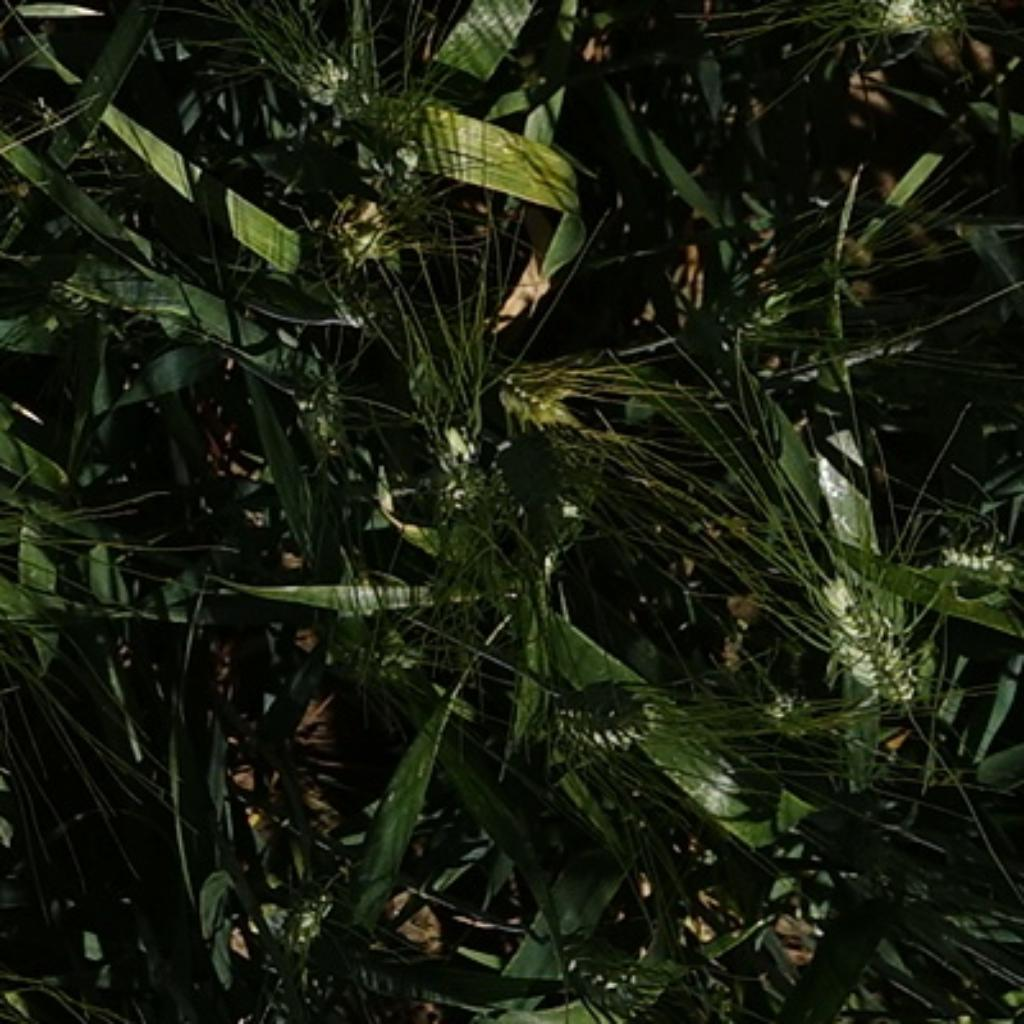0-0: (801, 545, 936, 714), (519, 660, 668, 778), (535, 906, 689, 1013), (324, 603, 454, 705), (704, 261, 832, 358), (307, 196, 425, 300), (486, 337, 593, 445), (417, 391, 499, 529), (271, 45, 365, 129), (921, 517, 1024, 593), (349, 130, 430, 213), (844, 0, 977, 38), (20, 268, 107, 325), (760, 678, 821, 734)
